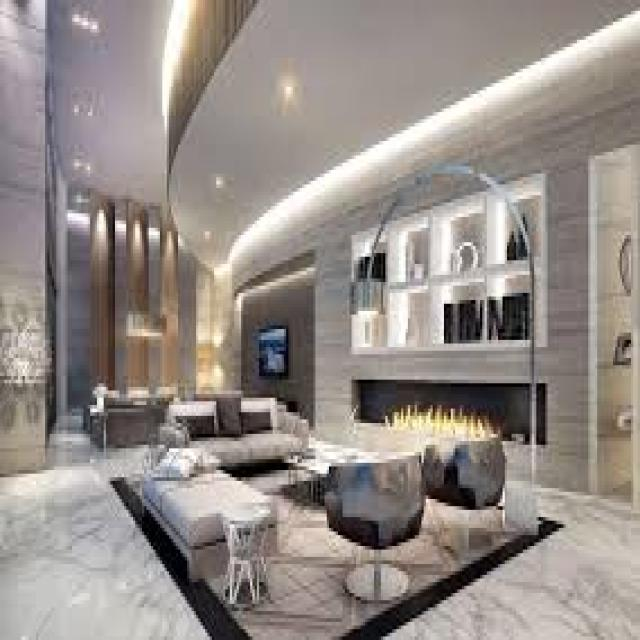Chair: (325, 441, 429, 611), (430, 431, 514, 561)
Lamp: (122, 282, 193, 366), (211, 336, 228, 374)
Sofa: (132, 443, 288, 598)
Table: (286, 417, 401, 518), (220, 508, 274, 610)
